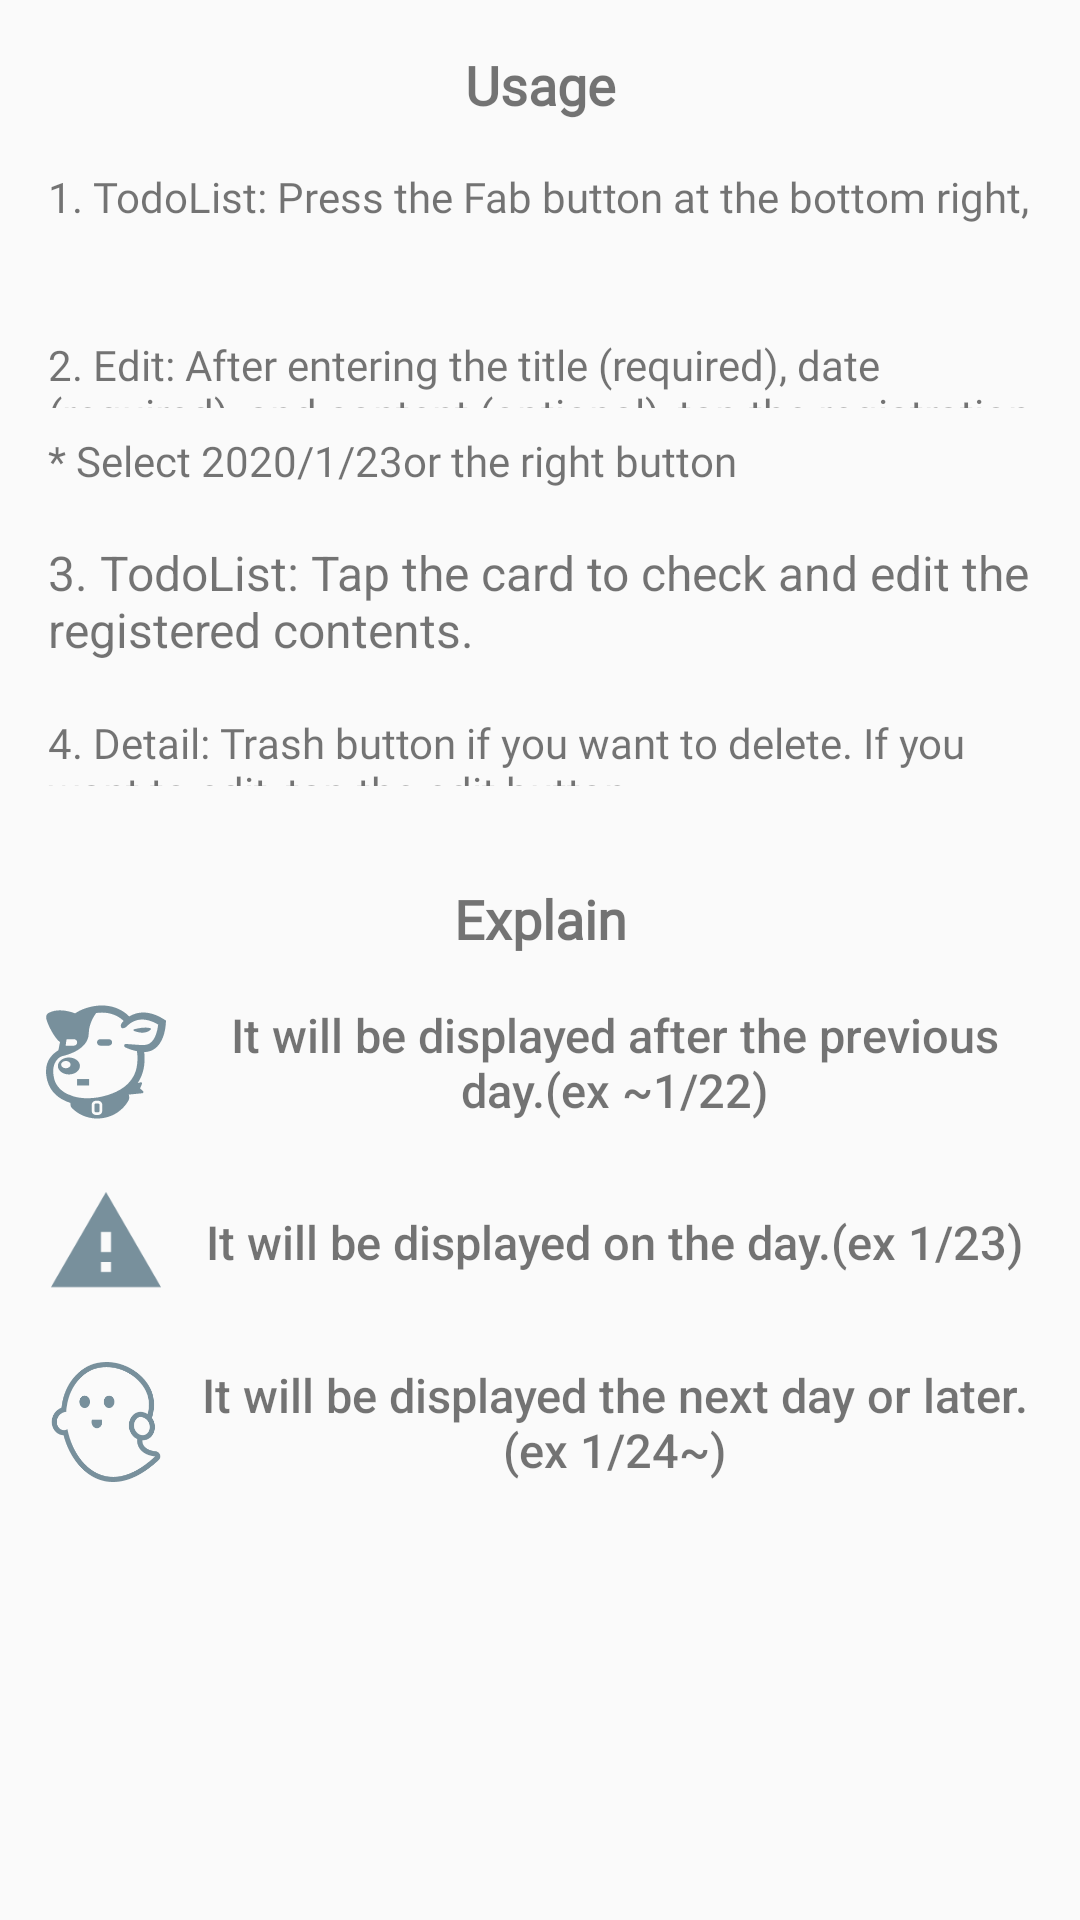

Icons on this 1080px×1920px Android screen, each with the point to tap as [x,y]:
dog: [106,1062]
ghost: [106,1422]
warning: [106,1240]
